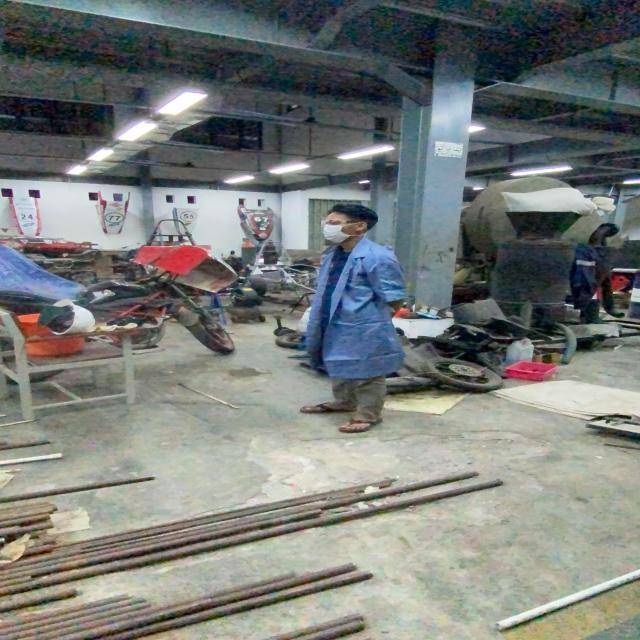glasses: (316, 218, 356, 227)
